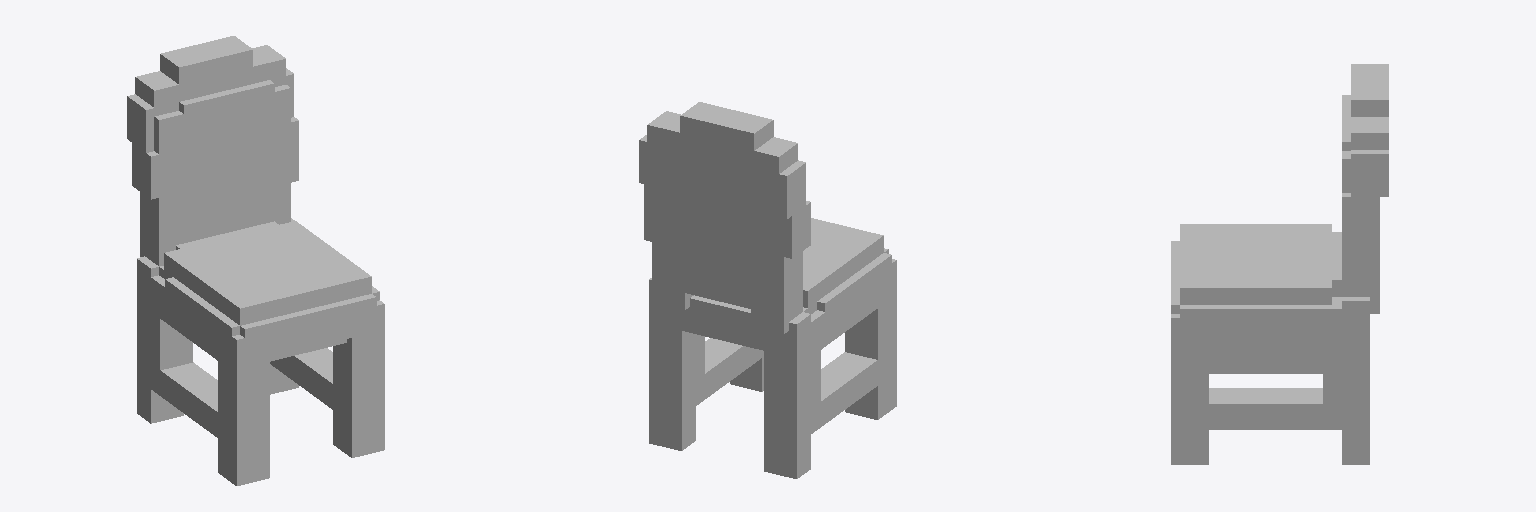
The model's file is chair converted.obj.
The picture shows the model from 3 angles: view 1: azimuth 30°, elevation 25°; view 2: azimuth 150°, elevation 25°; view 3: azimuth 270°, elevation 25°; orthographic projection.
Bounding box in the file's own units: 18 × 40 × 23.